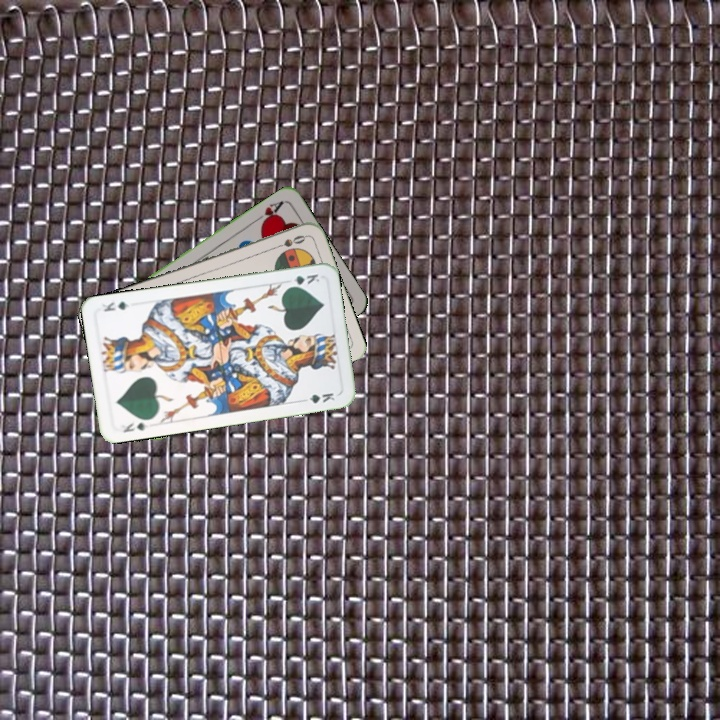GK: (283, 270, 322, 290), (115, 417, 151, 435)
HA: (251, 196, 286, 228)
SO: (270, 231, 309, 252)
